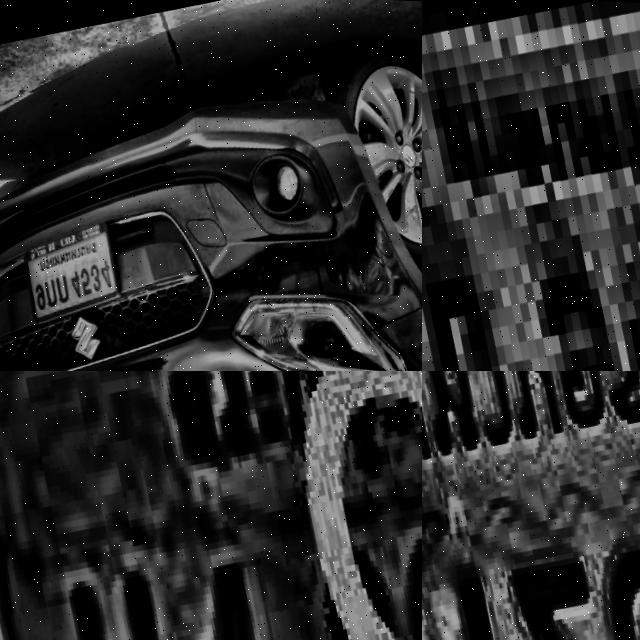license-plate: (0, 371, 422, 640), (422, 0, 640, 371), (422, 371, 640, 640), (13, 214, 132, 330)
